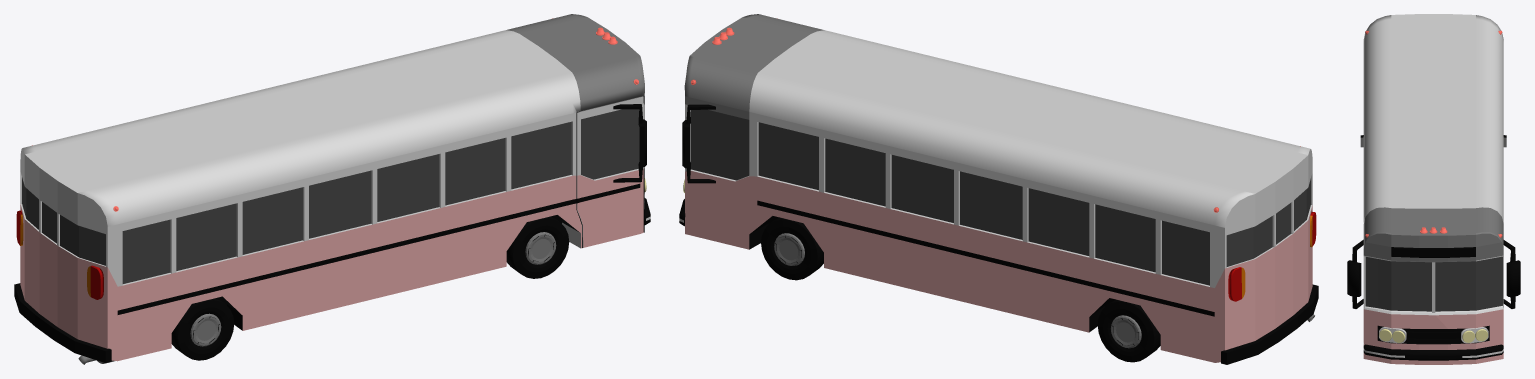
Rendered from Bus.fbx.
3 views of the same model, side by side, from view 1: azimuth 30°, elevation 25°; view 2: azimuth 150°, elevation 25°; view 3: azimuth 270°, elevation 25° (orthographic). The views are drawn at different scales.
Visible parts, largest first — view 1: Bus; view 2: Bus; view 3: Bus.
Part boxes in pixels (x1,y1,x2,y2): Bus: [14, 14, 650, 364]; Bus: [679, 14, 1318, 364]; Bus: [1347, 14, 1520, 364].
Bounding box in the file's own units: 1095 × 339 × 355.
